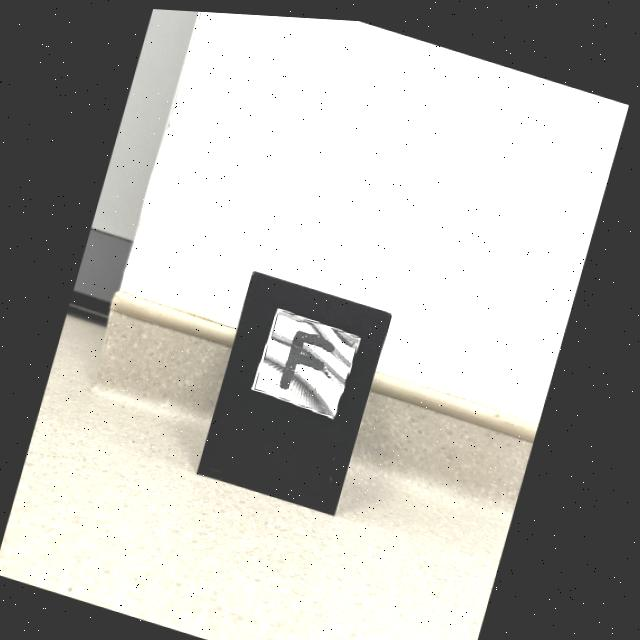F: (281, 326, 335, 385)
